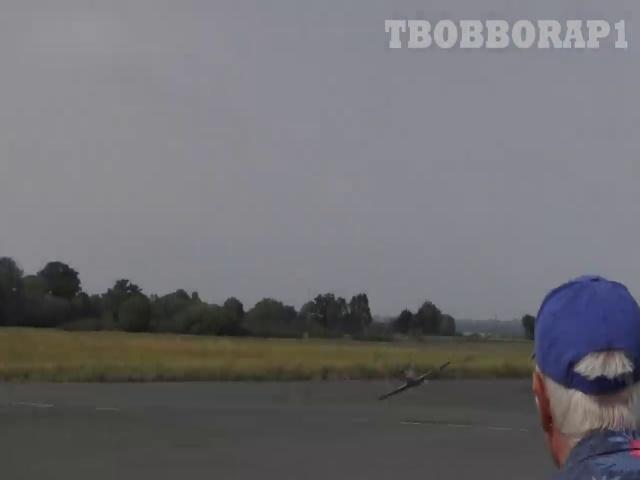Airplane: (377, 360, 451, 399)
